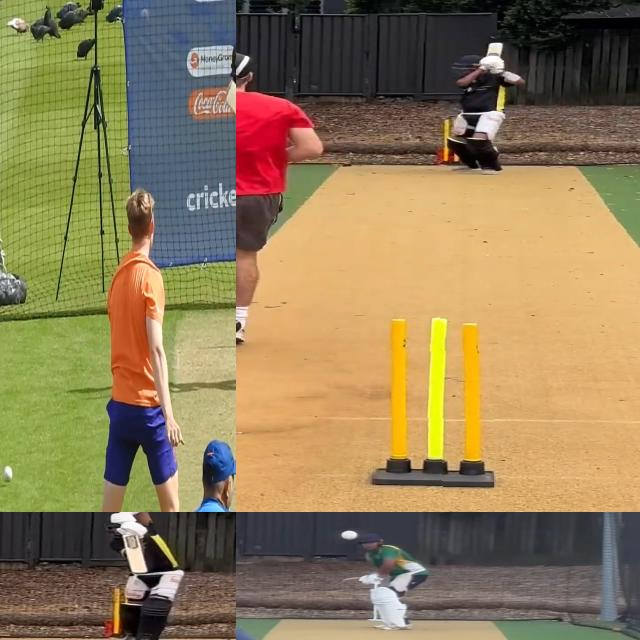Cricket ball: (2, 461, 15, 487), (338, 528, 362, 541)
Stumps: (372, 316, 494, 489)
